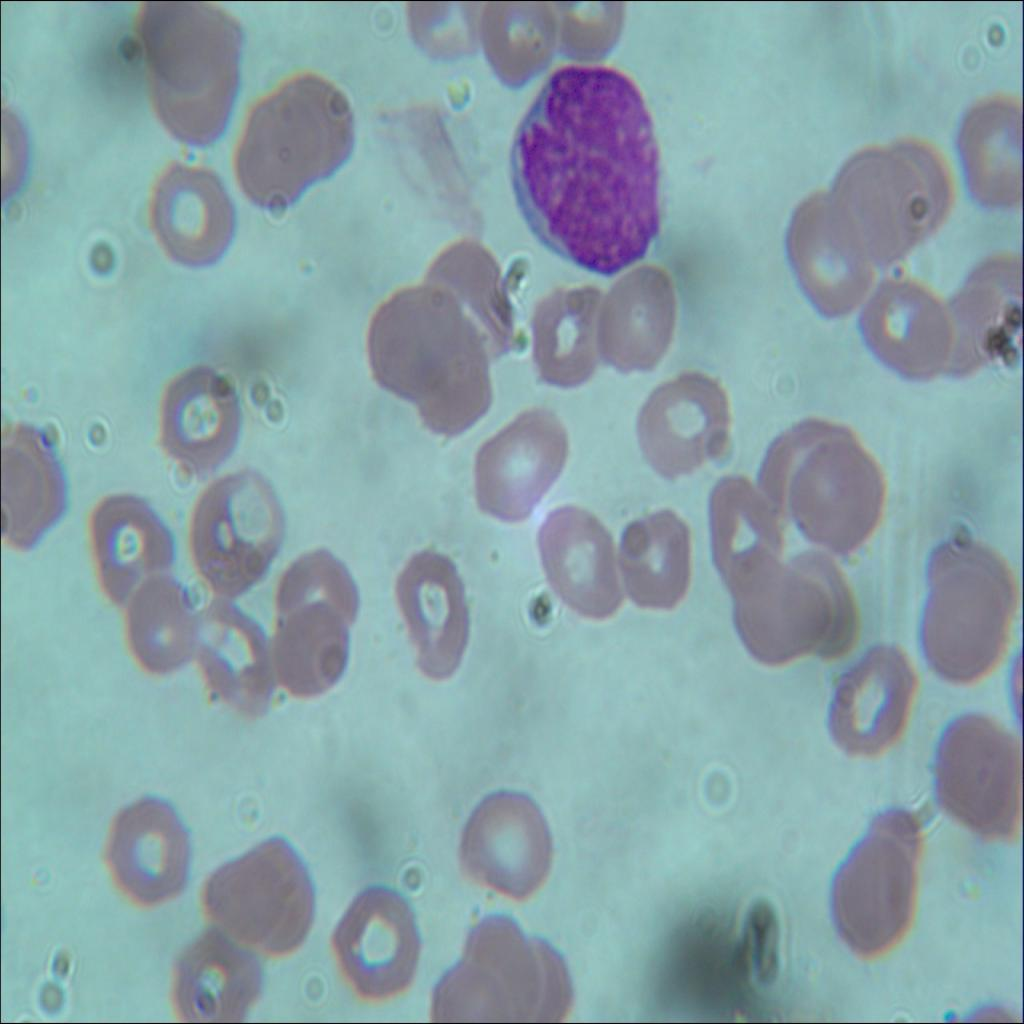Eritrosit: (201, 815, 310, 959), (179, 452, 284, 592), (918, 564, 1023, 682), (86, 482, 178, 616), (93, 790, 195, 909), (475, 409, 574, 530), (153, 152, 243, 282), (334, 878, 422, 1010), (398, 547, 478, 692), (792, 435, 886, 557), (831, 824, 919, 954), (418, 239, 516, 355), (456, 781, 555, 895), (820, 642, 918, 755), (166, 914, 266, 1023), (399, 328, 496, 440), (535, 492, 619, 621), (258, 62, 356, 171), (180, 605, 274, 718), (633, 371, 731, 477), (0, 420, 73, 561), (938, 714, 1023, 834), (730, 548, 816, 666), (826, 148, 921, 254), (366, 290, 459, 395), (158, 365, 248, 470), (604, 504, 693, 610), (762, 412, 852, 515), (135, 0, 236, 87), (464, 914, 544, 1023), (146, 58, 240, 150), (784, 557, 870, 657), (234, 91, 303, 214), (703, 462, 778, 575), (928, 271, 1006, 379), (601, 269, 675, 381), (789, 204, 866, 310), (864, 278, 946, 376), (468, 0, 559, 87), (280, 542, 358, 641), (271, 604, 346, 705), (528, 281, 598, 388), (126, 568, 196, 671), (408, 0, 493, 75), (886, 138, 944, 236), (546, 0, 623, 68)
Limfoblast: (506, 65, 663, 278)
